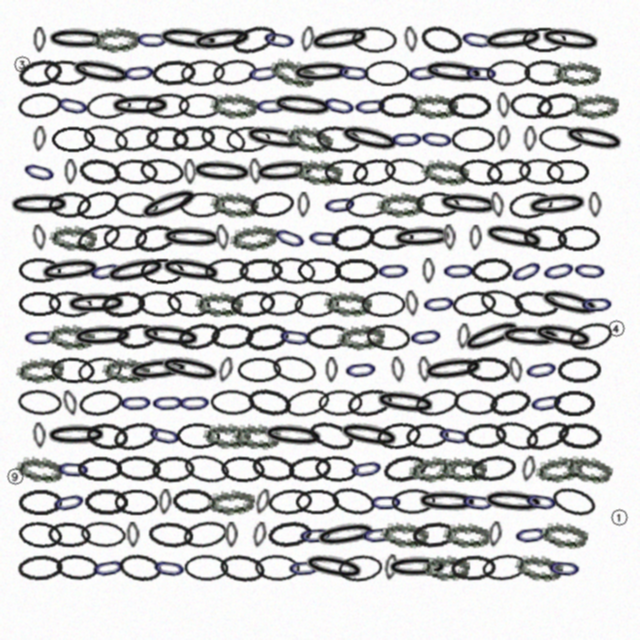chain: (135, 181, 204, 228), (458, 313, 527, 360), (535, 283, 604, 324), (335, 119, 404, 159), (560, 120, 628, 158), (102, 252, 170, 290), (67, 54, 135, 91), (480, 219, 548, 256), (529, 318, 597, 355), (156, 351, 224, 388), (335, 417, 403, 454), (300, 549, 368, 586), (312, 517, 380, 553), (306, 22, 374, 57), (241, 121, 309, 156), (157, 253, 225, 288), (189, 23, 256, 57), (537, 23, 604, 57), (372, 386, 439, 420), (155, 23, 222, 56), (480, 23, 547, 56), (420, 56, 487, 89), (37, 254, 104, 287), (137, 320, 204, 353), (420, 353, 487, 386), (269, 90, 336, 122), (524, 189, 591, 221), (125, 354, 192, 386), (260, 420, 327, 452), (480, 486, 547, 518), (435, 189, 502, 220), (252, 156, 318, 187), (522, 416, 573, 456), (189, 157, 255, 187), (498, 322, 564, 352), (267, 54, 319, 91), (289, 58, 355, 87), (390, 223, 456, 252), (70, 322, 136, 351), (229, 21, 279, 59), (74, 219, 124, 257), (477, 285, 527, 323), (306, 417, 356, 455), (549, 483, 599, 521), (73, 186, 122, 224), (159, 224, 225, 252), (283, 121, 335, 156), (64, 290, 129, 318), (415, 488, 480, 516), (566, 318, 615, 355), (492, 417, 541, 454), (198, 121, 248, 157), (282, 385, 332, 421), (533, 452, 585, 486), (111, 418, 160, 454), (45, 26, 110, 53), (44, 422, 109, 449), (385, 554, 450, 581), (563, 452, 614, 486), (81, 121, 130, 156), (175, 319, 224, 354), (270, 352, 319, 387), (413, 385, 462, 420), (182, 451, 231, 486), (329, 484, 378, 519), (108, 93, 173, 119), (7, 192, 72, 218), (228, 221, 279, 254), (418, 22, 466, 57), (245, 385, 293, 420), (505, 252, 548, 290), (16, 56, 64, 90), (534, 89, 582, 123), (350, 155, 398, 189), (381, 452, 429, 486), (407, 453, 458, 485), (382, 155, 431, 188), (345, 386, 394, 419), (181, 518, 230, 551), (132, 221, 179, 255), (487, 386, 534, 420), (165, 287, 213, 320), (250, 452, 297, 485), (117, 551, 164, 584), (514, 552, 564, 583), (314, 123, 362, 155), (512, 288, 560, 320), (76, 354, 124, 386), (77, 387, 125, 419), (218, 552, 266, 584), (269, 220, 311, 256), (457, 156, 504, 188), (507, 189, 554, 221), (243, 321, 290, 353), (570, 91, 620, 121), (420, 157, 470, 187), (336, 322, 386, 352), (15, 355, 65, 385), (15, 454, 65, 484), (206, 487, 256, 517), (539, 520, 589, 550), (16, 90, 64, 121), (375, 420, 423, 451), (77, 156, 123, 188), (211, 57, 258, 88), (85, 90, 132, 121), (113, 123, 160, 154), (138, 156, 185, 187), (485, 156, 532, 187), (249, 189, 296, 220), (329, 222, 376, 253), (270, 255, 317, 286), (470, 453, 517, 484), (266, 519, 313, 550), (481, 552, 528, 583), (17, 519, 63, 550), (91, 25, 140, 54), (210, 190, 259, 219), (376, 190, 425, 219), (380, 520, 429, 549), (344, 190, 391, 220), (293, 289, 340, 319), (451, 289, 498, 319), (147, 520, 194, 550), (337, 553, 384, 583), (115, 321, 160, 352), (19, 155, 60, 189), (113, 190, 159, 220), (522, 223, 568, 253), (47, 289, 93, 319), (100, 289, 146, 319), (365, 322, 411, 352), (287, 454, 333, 484), (267, 487, 313, 517), (411, 520, 457, 550), (294, 158, 343, 186), (232, 422, 281, 450), (229, 289, 276, 318), (319, 89, 360, 122), (85, 421, 130, 451), (180, 58, 226, 87), (171, 124, 217, 153), (538, 124, 584, 153), (518, 157, 564, 186), (17, 388, 63, 417), (115, 454, 161, 483), (314, 454, 360, 483), (80, 520, 126, 549), (53, 89, 93, 122), (539, 254, 579, 287), (145, 419, 185, 452), (509, 91, 554, 120), (415, 190, 460, 219), (137, 289, 182, 318), (210, 322, 255, 351), (453, 388, 498, 417), (557, 421, 602, 450), (55, 553, 100, 582), (210, 92, 258, 119), (49, 224, 97, 251), (324, 290, 372, 317), (47, 323, 95, 350), (203, 422, 251, 449), (422, 554, 470, 581), (113, 158, 159, 186), (179, 191, 225, 219), (305, 323, 351, 351), (50, 356, 96, 384), (220, 455, 266, 483), (17, 554, 63, 582), (450, 554, 496, 582), (86, 255, 126, 287), (49, 486, 89, 518), (470, 256, 514, 285), (43, 59, 88, 87), (151, 59, 196, 87), (145, 92, 190, 120), (145, 125, 190, 153), (204, 257, 249, 285), (238, 257, 283, 285), (405, 422, 450, 450), (463, 422, 508, 450), (151, 455, 196, 483), (47, 521, 92, 549), (553, 60, 601, 86), (410, 93, 458, 119), (195, 291, 243, 317), (102, 357, 150, 383), (439, 456, 487, 482), (443, 522, 491, 548), (351, 26, 397, 53), (368, 224, 414, 251), (254, 554, 300, 581), (486, 59, 531, 86), (523, 59, 568, 86), (297, 257, 342, 284), (210, 389, 255, 416), (318, 389, 363, 416), (391, 488, 436, 515), (184, 554, 229, 581), (260, 24, 299, 55), (458, 24, 497, 55), (522, 354, 561, 385), (527, 387, 566, 418), (435, 420, 474, 451), (347, 453, 386, 484), (522, 486, 561, 517), (89, 552, 128, 583), (377, 92, 421, 119), (447, 92, 491, 119), (48, 191, 92, 218), (103, 224, 147, 251), (18, 257, 62, 284), (259, 290, 303, 317), (466, 356, 510, 383), (557, 356, 601, 383), (176, 422, 220, 449), (84, 488, 128, 515), (364, 60, 409, 86), (226, 126, 271, 152), (324, 159, 369, 185), (140, 258, 185, 284), (361, 291, 406, 317), (276, 322, 315, 352), (237, 357, 282, 383), (77, 456, 122, 482), (150, 553, 189, 583), (172, 488, 215, 515), (522, 27, 566, 53), (178, 93, 222, 119), (51, 126, 95, 152), (451, 126, 495, 152), (546, 159, 590, 185), (557, 225, 601, 251), (334, 258, 378, 284), (18, 291, 62, 317), (18, 489, 62, 515), (114, 489, 158, 515), (295, 489, 339, 515), (245, 58, 283, 88), (418, 124, 456, 154), (459, 487, 497, 517), (553, 390, 596, 416), (120, 58, 158, 87), (335, 58, 373, 87), (405, 58, 443, 87), (321, 190, 359, 219), (571, 256, 609, 285), (420, 289, 458, 318), (407, 322, 445, 351), (342, 355, 380, 384), (359, 520, 397, 549), (512, 520, 550, 549), (463, 59, 500, 87), (352, 92, 389, 120), (306, 224, 343, 252), (55, 455, 92, 483), (297, 521, 334, 549), (546, 554, 583, 582), (253, 92, 290, 119), (375, 257, 412, 284), (176, 389, 213, 416), (286, 554, 323, 581), (134, 26, 170, 53), (441, 257, 477, 284), (118, 389, 154, 416), (150, 389, 186, 416), (389, 126, 425, 152), (579, 291, 615, 317), (22, 324, 58, 350), (368, 489, 404, 515), (216, 356, 235, 384), (61, 389, 80, 417), (253, 488, 272, 516), (507, 356, 525, 384), (489, 191, 506, 219), (520, 455, 537, 483), (251, 521, 268, 549), (299, 26, 316, 53), (31, 224, 48, 251), (214, 224, 231, 251), (403, 26, 419, 53), (404, 290, 420, 317), (390, 356, 406, 383), (487, 521, 503, 548), (383, 554, 399, 581), (496, 92, 511, 119), (496, 125, 511, 152), (248, 158, 263, 185), (442, 224, 457, 251), (456, 323, 471, 350), (417, 356, 432, 383), (32, 422, 47, 449), (32, 126, 47, 152), (523, 126, 537, 152), (183, 159, 197, 185), (588, 192, 602, 218), (158, 489, 172, 515), (126, 522, 140, 548), (33, 27, 46, 53), (64, 159, 77, 185), (297, 192, 310, 218), (469, 225, 482, 251), (422, 258, 435, 284), (325, 357, 338, 383), (225, 522, 238, 548)
noise: (12, 54, 32, 74), (606, 318, 626, 338), (5, 466, 25, 486), (609, 507, 629, 527)
